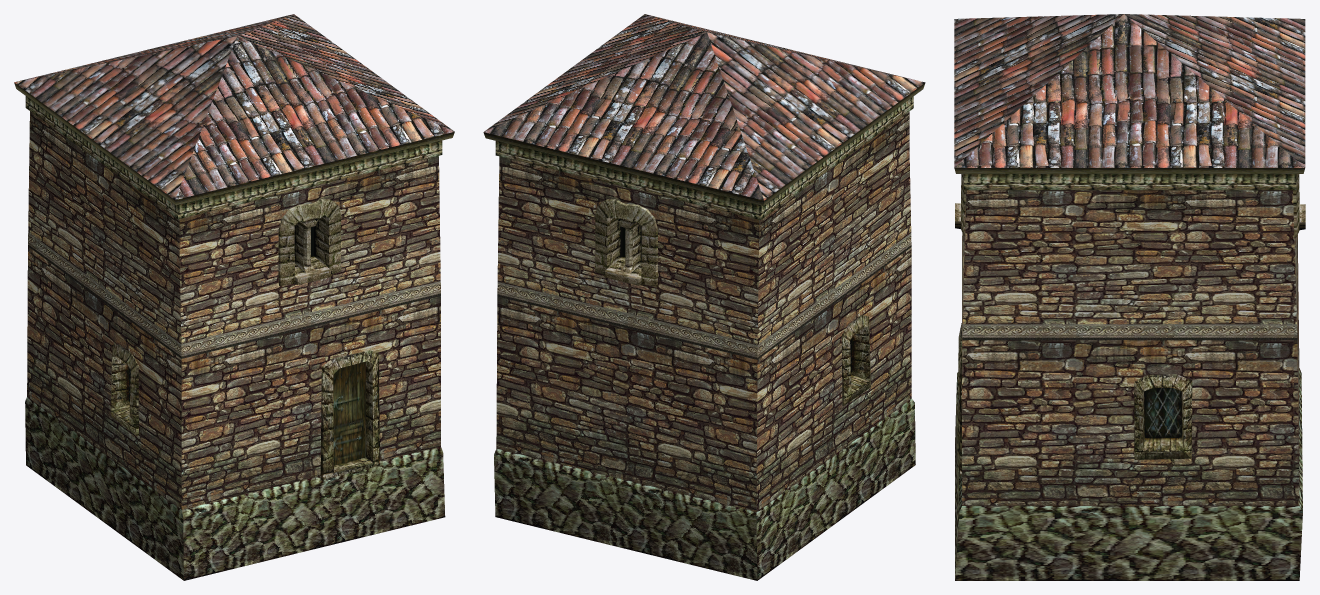
3 renders of one model, left to right at view 1: azimuth 30°, elevation 25°; view 2: azimuth 150°, elevation 25°; view 3: azimuth 270°, elevation 25°, orthographic. The views are drawn at different scales.
Parts seen in each view (by area): view 1: TN2_D3-col; view 2: TN2_D3-col; view 3: TN2_D3-col.
Boxes of the visible parts, box(x1,y1,x2,y2) form: TN2_D3-col: box(14, 14, 454, 580); TN2_D3-col: box(483, 14, 925, 580); TN2_D3-col: box(954, 14, 1305, 580).
Size of the model in its own units: 6.16 by 9.6 by 6.14.
9 materials, 9 textured.
